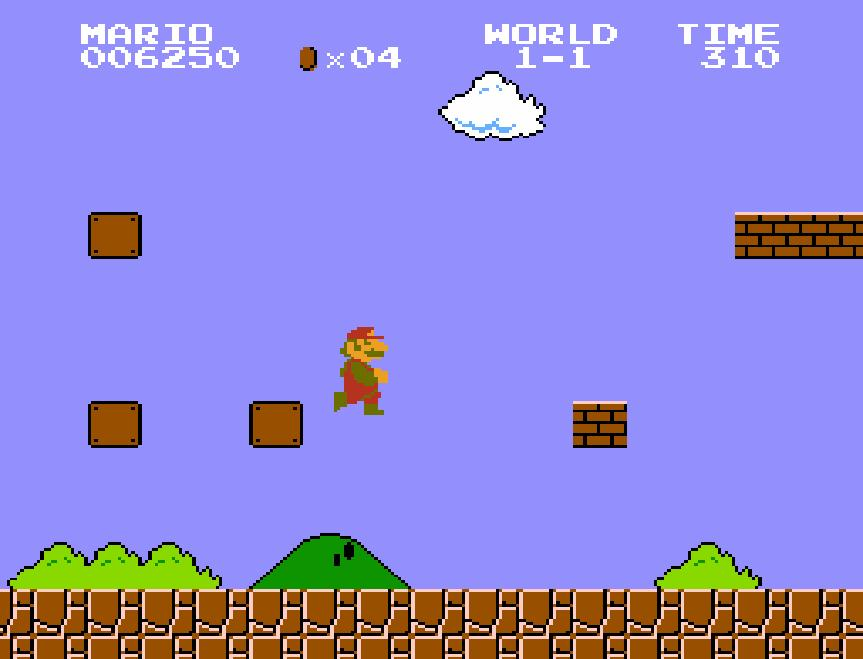big_mario: (332, 319, 390, 417)
